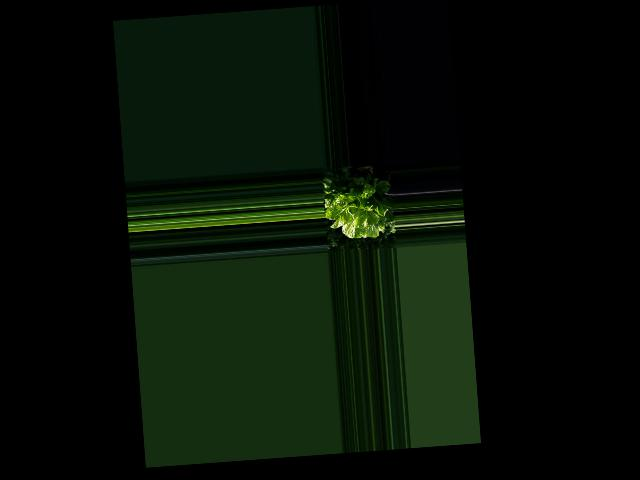lettuce: (329, 176, 393, 239)
